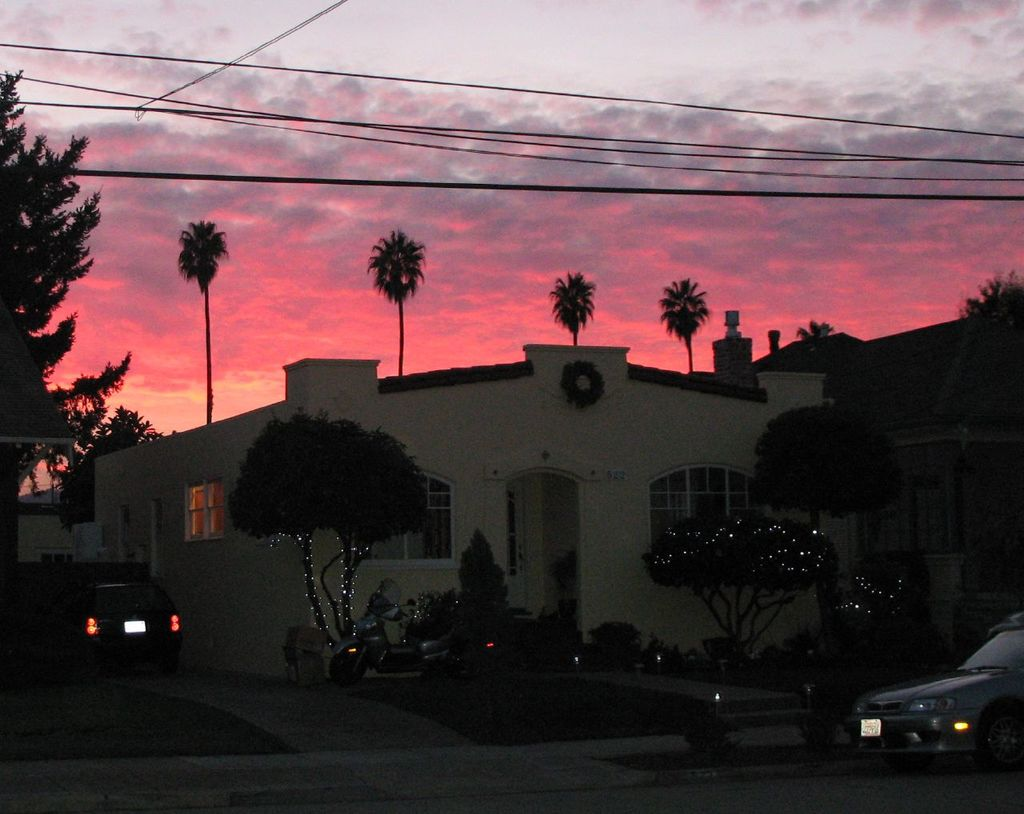Car: (866, 608, 1023, 763), (82, 580, 180, 659)
